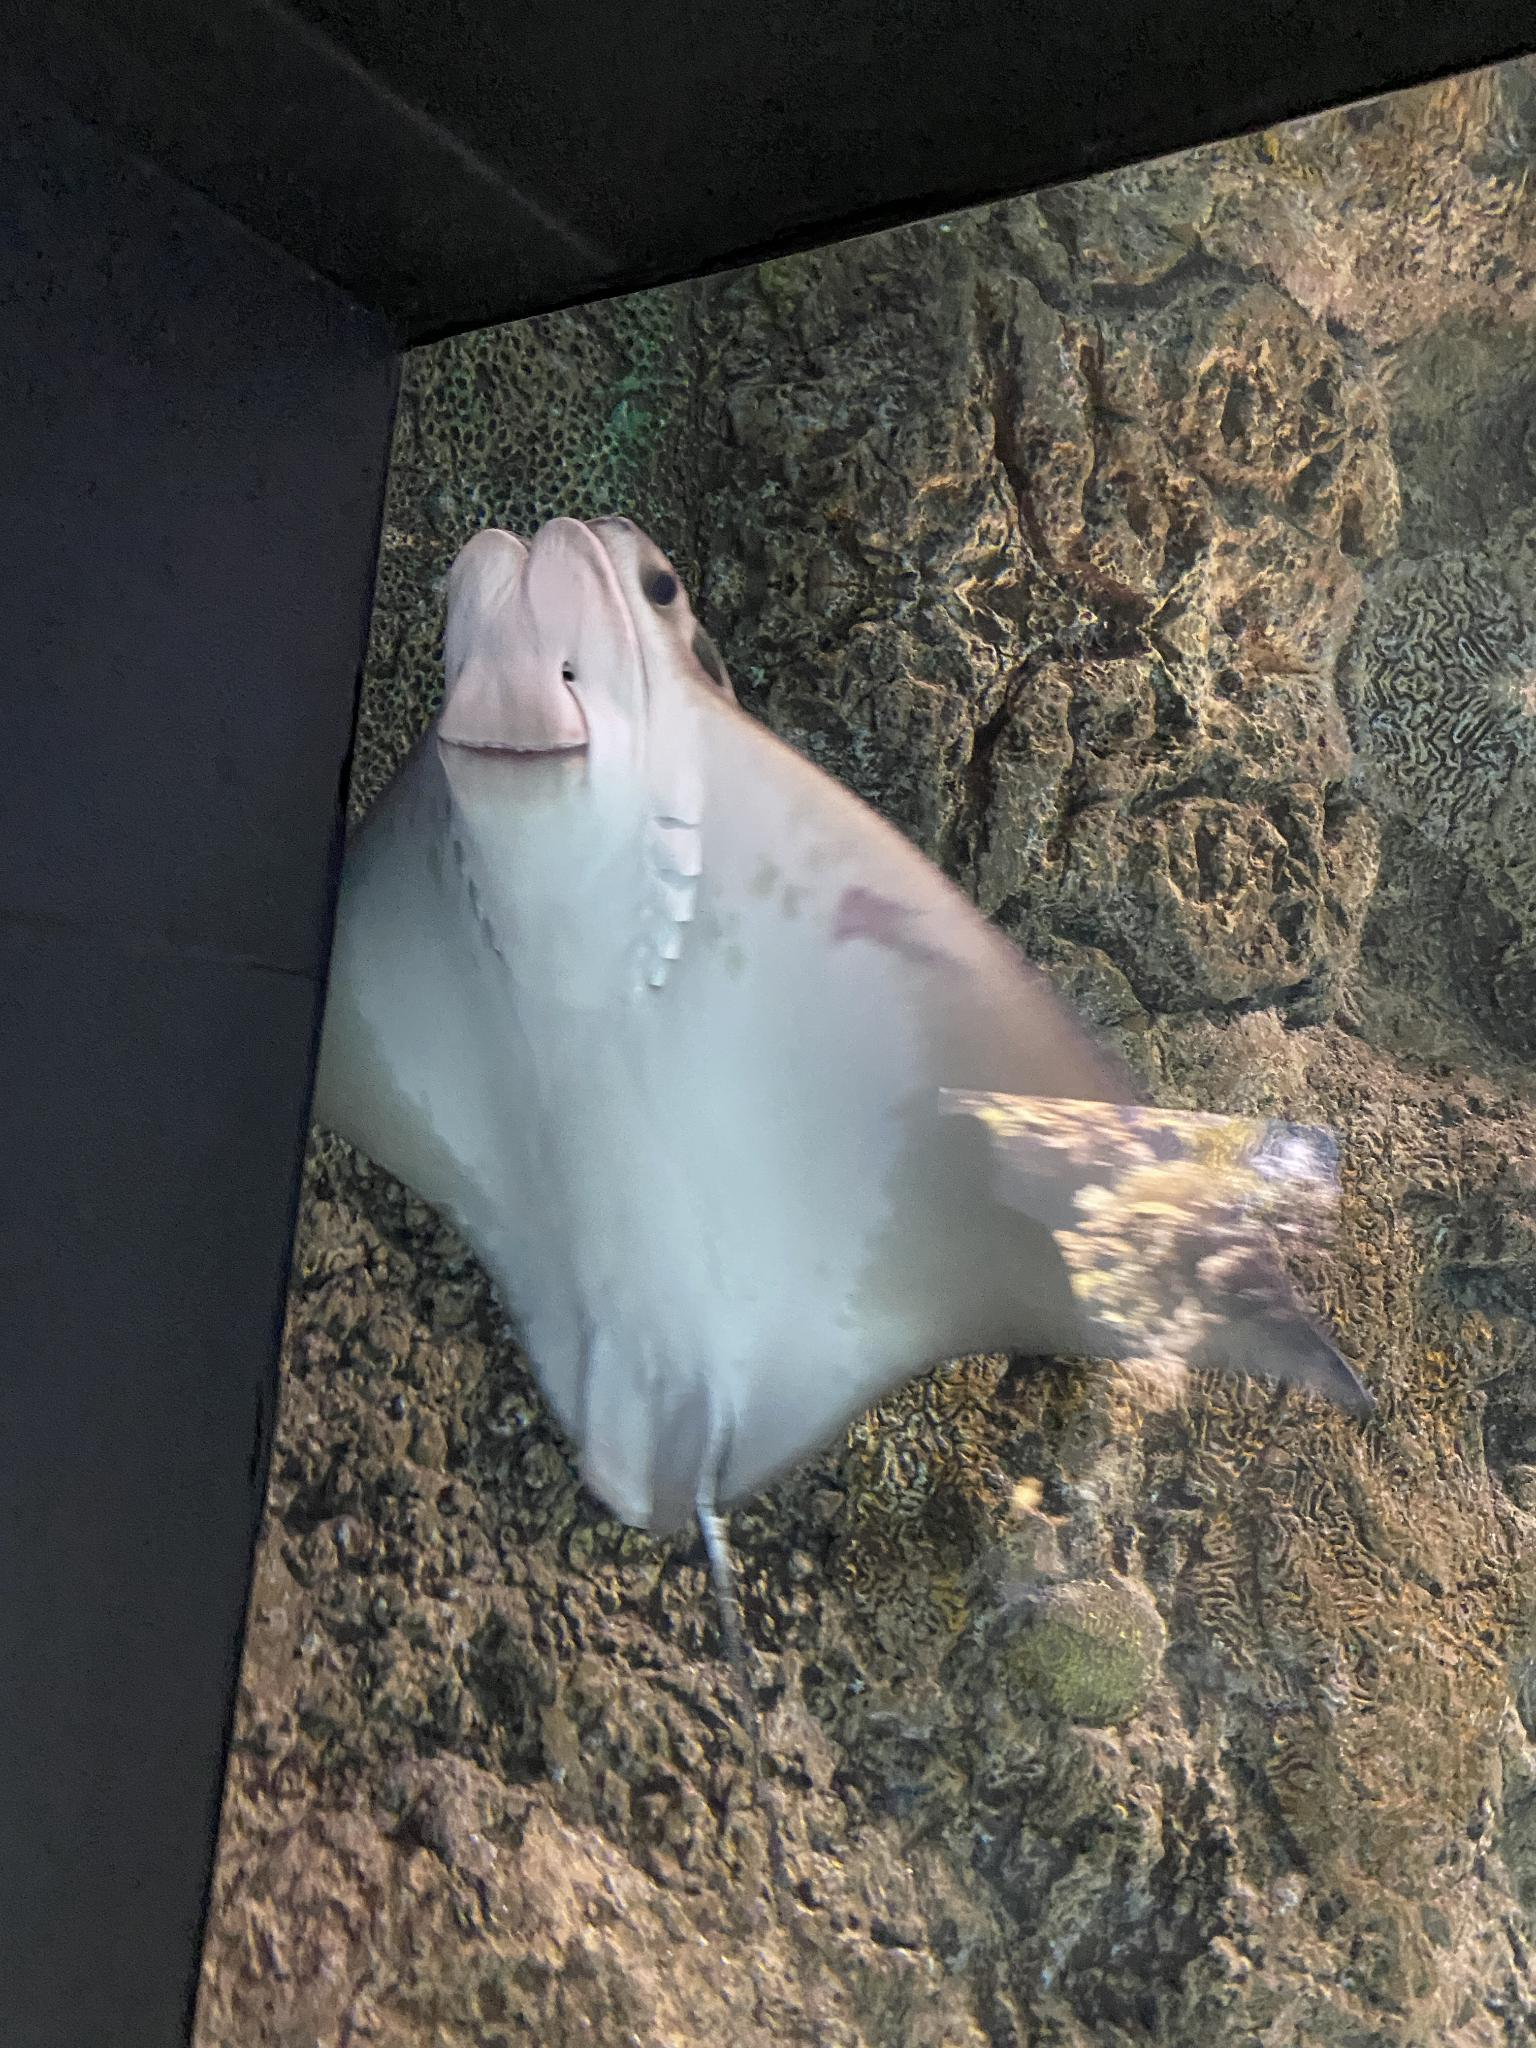stingray: (310, 506, 1381, 1528)
